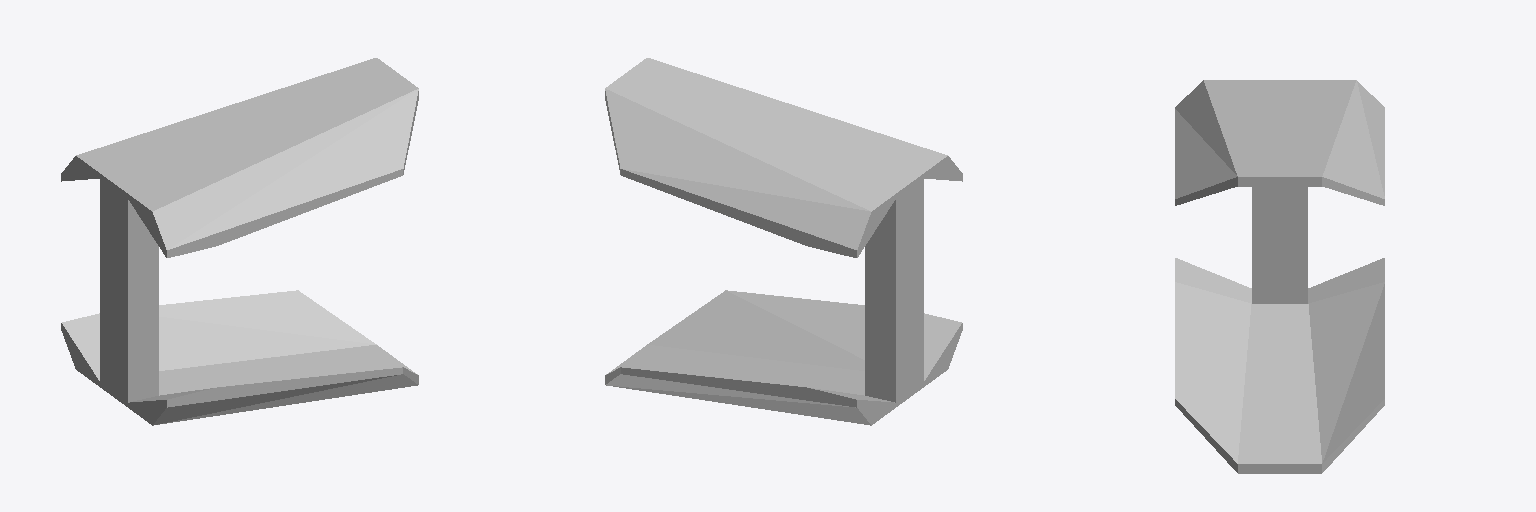
Rendered from shipyard.obj.
3 renders of one model, left to right at view 1: azimuth 30°, elevation 25°; view 2: azimuth 150°, elevation 25°; view 3: azimuth 270°, elevation 25°, orthographic.
Parts seen in each view (by area): view 1: Cube.001; view 2: Cube.001; view 3: Cube.001.
Part boxes in pixels (bbox=[...]): Cube.001: bbox=[61, 58, 418, 425]; Cube.001: bbox=[605, 58, 962, 425]; Cube.001: bbox=[1175, 80, 1384, 473].
Size of the model in its own units: 3.73 by 3.73 by 2.4.